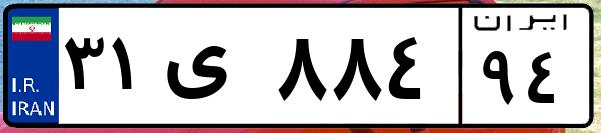1: (110, 28, 158, 98)
3: (57, 26, 110, 100)
4: (385, 28, 445, 110), (525, 38, 570, 115)
8: (270, 28, 330, 110), (330, 28, 385, 110)
9: (475, 38, 525, 113)
ی: (158, 20, 270, 120)
